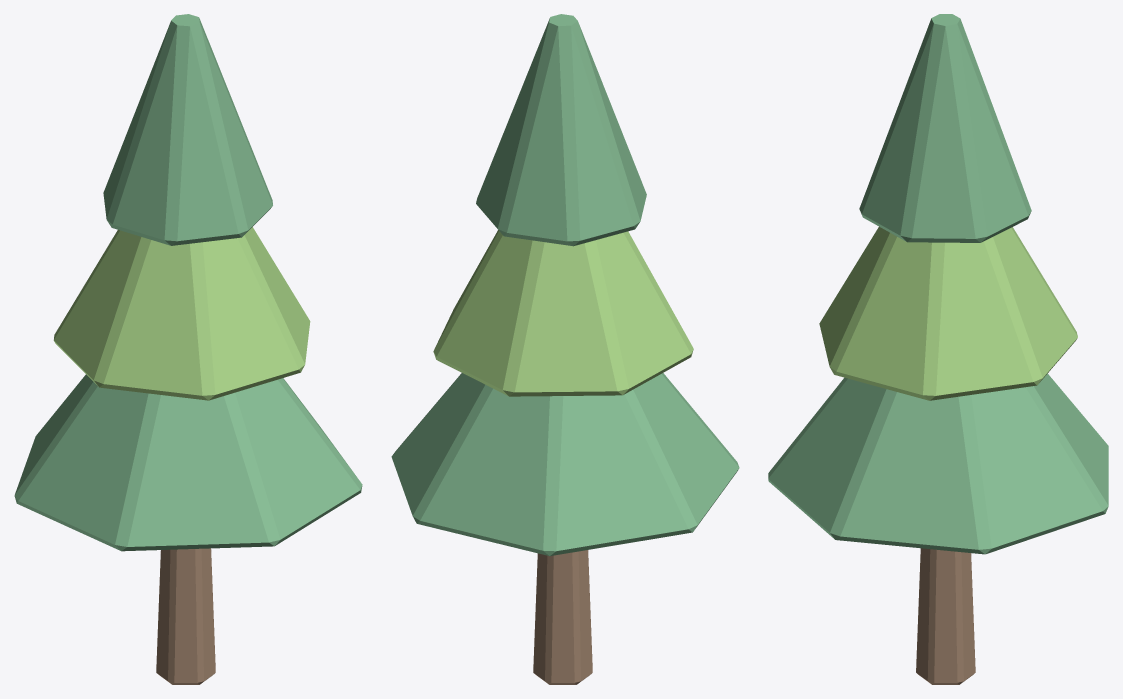
Rendered from pinheiro.fbx.
The picture shows the model from 3 angles, left to right: view 1: azimuth 30°, elevation 25°; view 2: azimuth 150°, elevation 25°; view 3: azimuth 270°, elevation 25°; orthographic projection.
Parts seen in each view (by area): view 1: Pinheiro~Copa 0@leafdark, Pinheiro~Copa 1@leaf, Pinheiro~Copa 2@leafdark, Pinheiro~Tronco@bark; view 2: Pinheiro~Copa 0@leafdark, Pinheiro~Copa 1@leaf, Pinheiro~Copa 2@leafdark, Pinheiro~Tronco@bark; view 3: Pinheiro~Copa 0@leafdark, Pinheiro~Copa 1@leaf, Pinheiro~Copa 2@leafdark, Pinheiro~Tronco@bark.
Part boxes in pixels (x1,y1,x2,y2): Pinheiro~Copa 0@leafdark: [14, 374, 362, 551]; Pinheiro~Copa 1@leaf: [53, 227, 310, 400]; Pinheiro~Copa 2@leafdark: [103, 14, 272, 245]; Pinheiro~Tronco@bark: [156, 548, 215, 684]; Pinheiro~Copa 0@leafdark: [391, 373, 739, 556]; Pinheiro~Copa 1@leaf: [433, 230, 693, 396]; Pinheiro~Copa 2@leafdark: [476, 14, 646, 246]; Pinheiro~Tronco@bark: [533, 550, 592, 684]; Pinheiro~Copa 0@leafdark: [768, 373, 1108, 554]; Pinheiro~Copa 1@leaf: [819, 226, 1077, 400]; Pinheiro~Copa 2@leafdark: [859, 14, 1031, 242]; Pinheiro~Tronco@bark: [916, 548, 975, 684].
Size of the model in its own units: 2.45 by 5.08 by 2.39.
